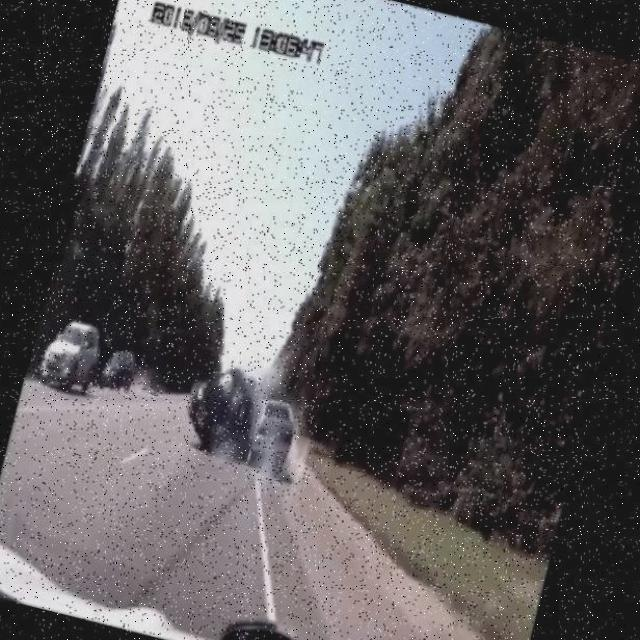accident: (164, 343, 319, 493)
